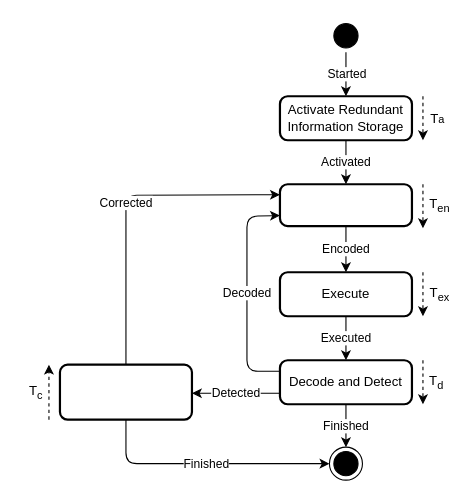
The diagram is 474 pixels wide and 499 high, and some of its shapes have lost their labels. The shapes that lost their labels are listed below. From the top down, each one's centre as x and y in pixels, then its label:
[345,205]: Encode
[125,391]: Correct using Redundant Information
